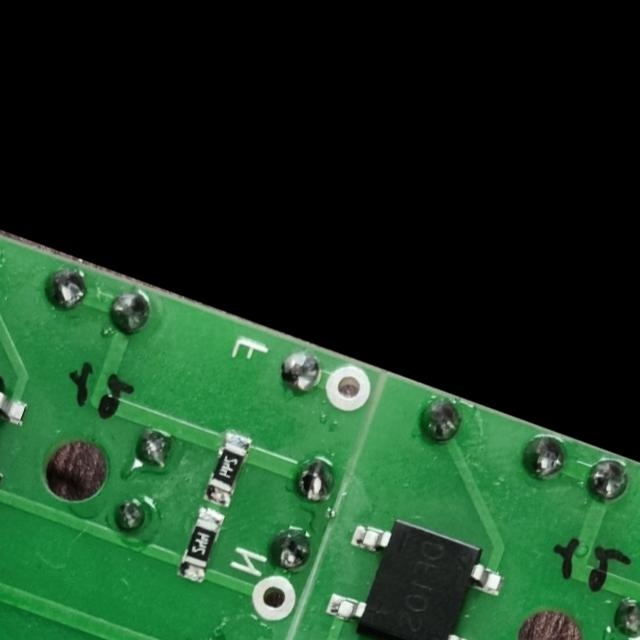chip-resistor: (172, 503, 227, 586), (198, 428, 254, 508)
ic: (318, 500, 514, 640)
